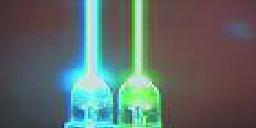LED: (61, 70, 114, 128), (116, 70, 168, 128)
